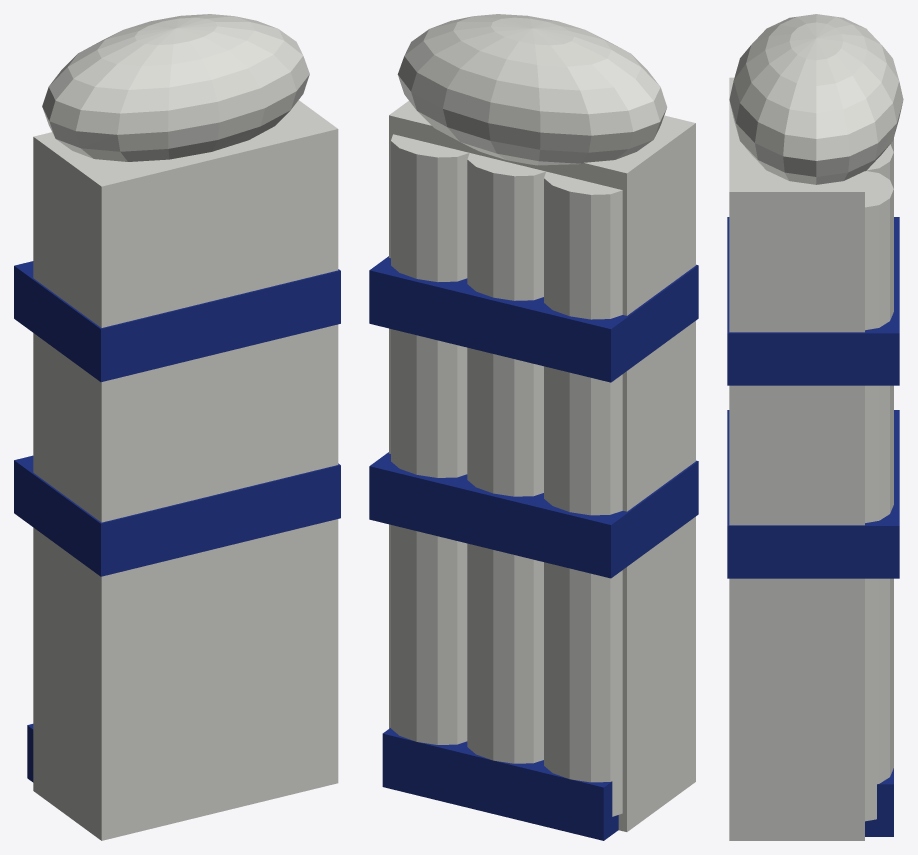
Rendered from goalie-pad.obj.
3 views of the same model, side by side, from view 1: azimuth 30°, elevation 25°; view 2: azimuth 150°, elevation 25°; view 3: azimuth 270°, elevation 25° (orthographic).
Parts seen in each view (by area): view 1: GoaliePad; view 2: GoaliePad; view 3: GoaliePad.
Part boxes in pixels (x1,y1,x2,y2): GoaliePad: [14, 14, 340, 840]; GoaliePad: [369, 14, 698, 840]; GoaliePad: [727, 14, 903, 840].
Bounding box in the file's own units: 0.3 × 0.85 × 0.182.
